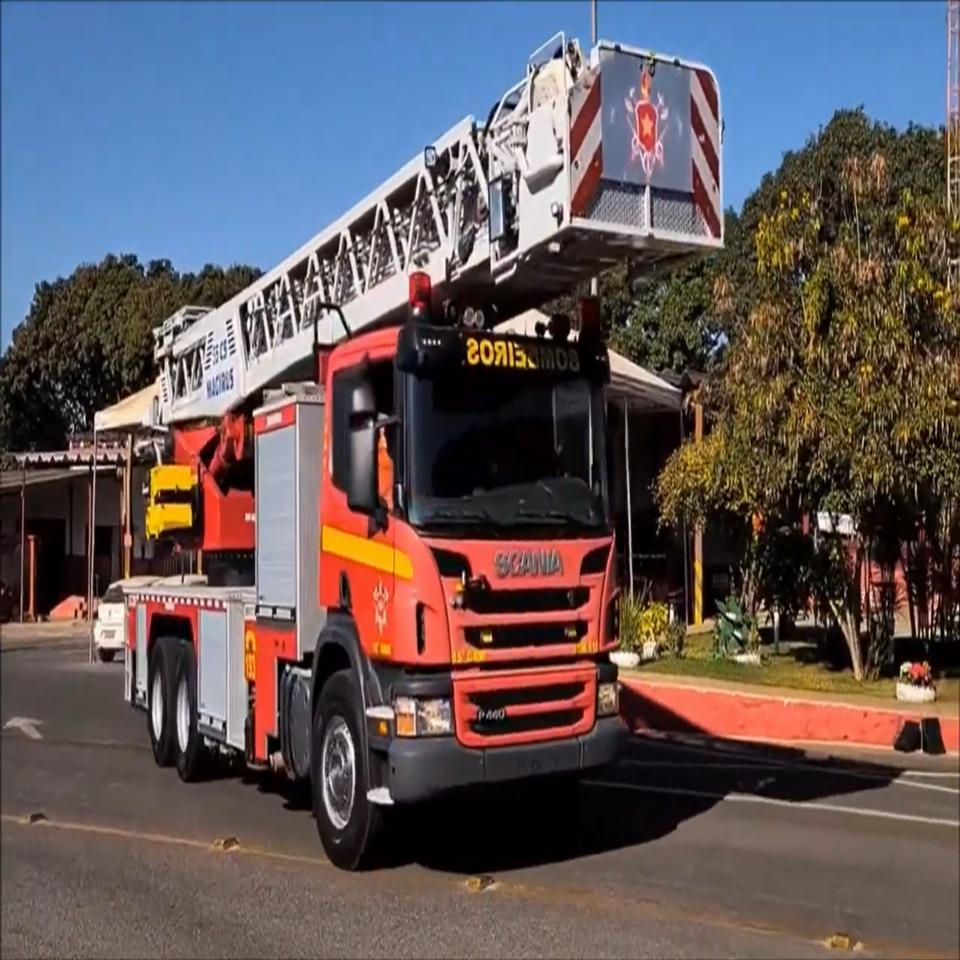bombeiro: (124, 28, 724, 870)
